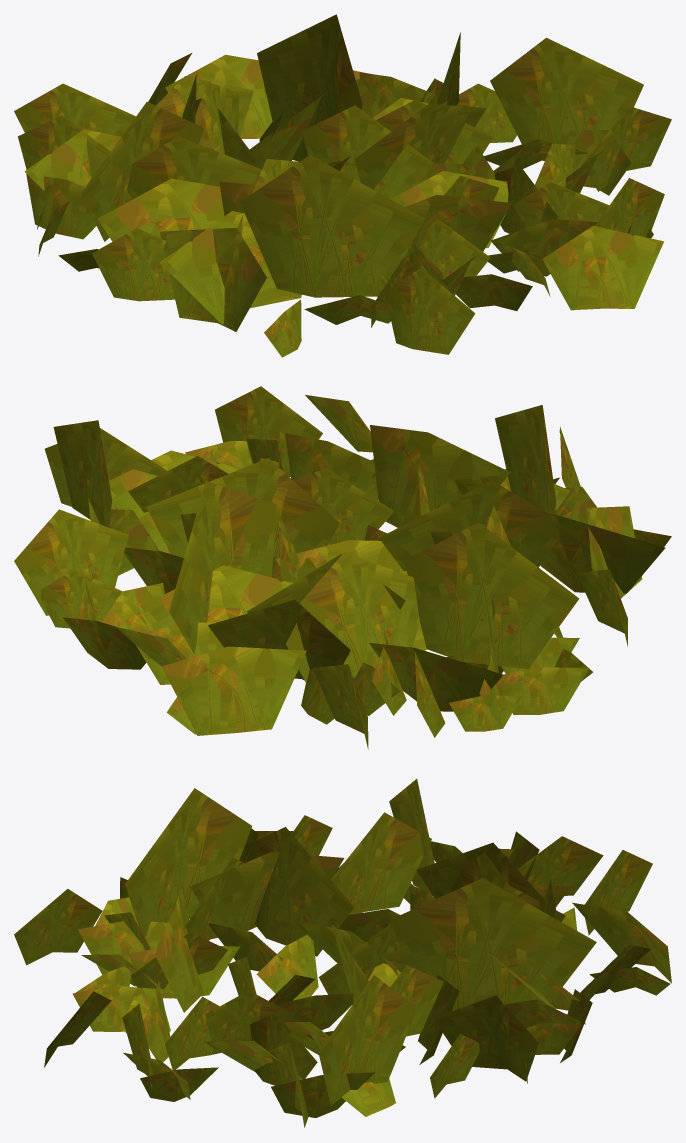
The model's file is Grass_var2.fbx.
3 views of the same model, one above another, from view 1: azimuth 30°, elevation 25°; view 2: azimuth 150°, elevation 25°; view 3: azimuth 270°, elevation 25° (orthographic). The views are drawn at different scales.
Parts seen in each view (by area): view 1: Grass_var2_LOD0; view 2: Grass_var2_LOD0; view 3: Grass_var2_LOD0.
Part boxes in pixels (<box>): Grass_var2_LOD0: <box>14,14,671,357</box>; Grass_var2_LOD0: <box>14,386,671,749</box>; Grass_var2_LOD0: <box>14,779,671,1127</box>.
Size of what is drawn, in the model's own units: 112 by 31.31 by 113.
